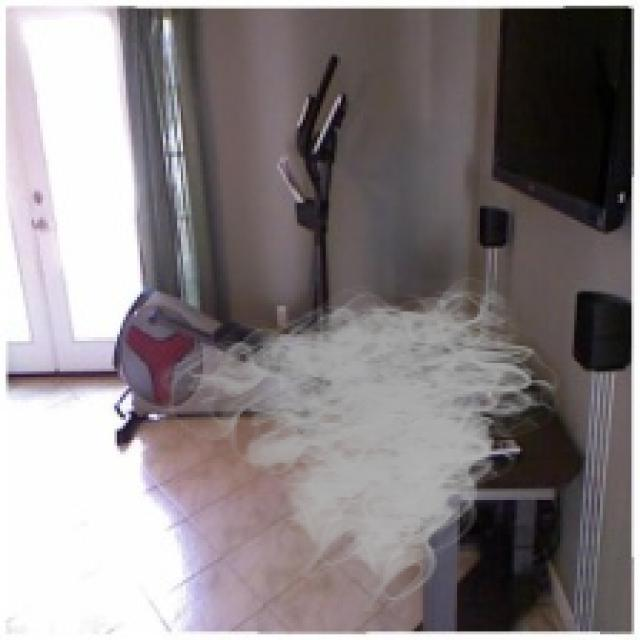Smoke: (152, 268, 572, 612)
